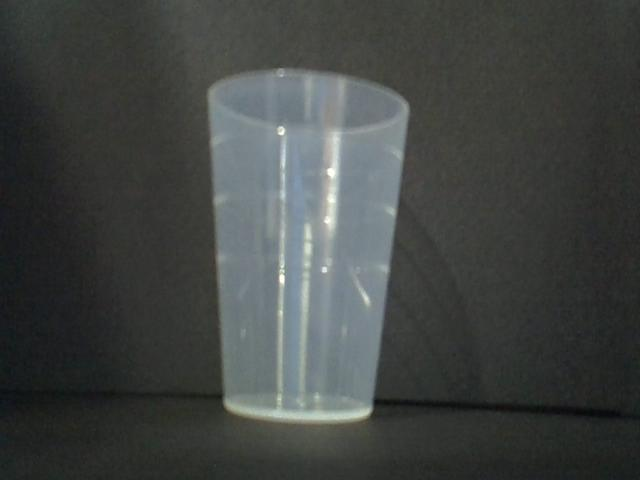cup: (206, 70, 414, 432)
